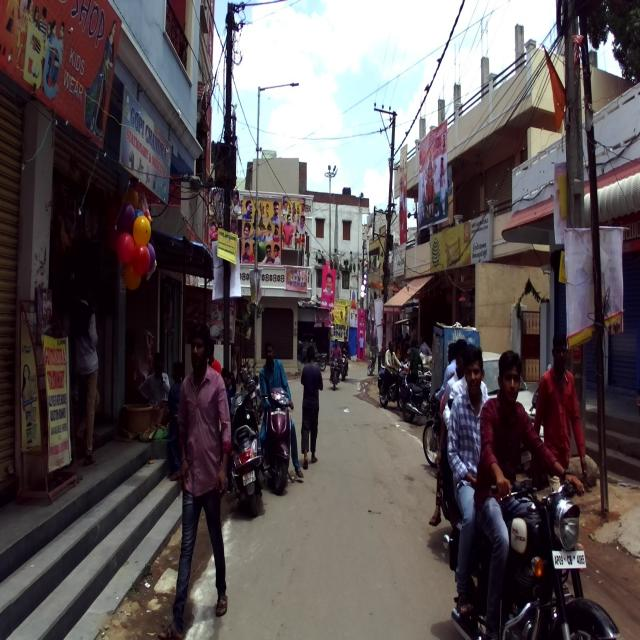Car_Maruti-Suzuki: (445, 350, 549, 486)
motorcycle_Hero: (421, 387, 460, 470)
motorcycle_RoyalEnfield: (442, 455, 624, 640)
scooter: (229, 378, 266, 516), (259, 385, 294, 495)
